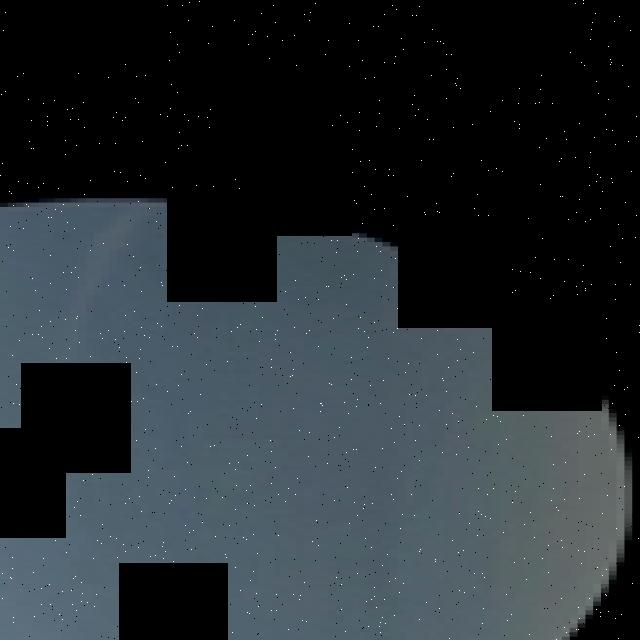Uranus: (0, 198, 632, 640)
